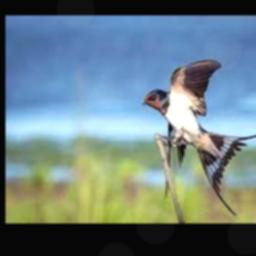Swallow: (144, 60, 256, 218)
